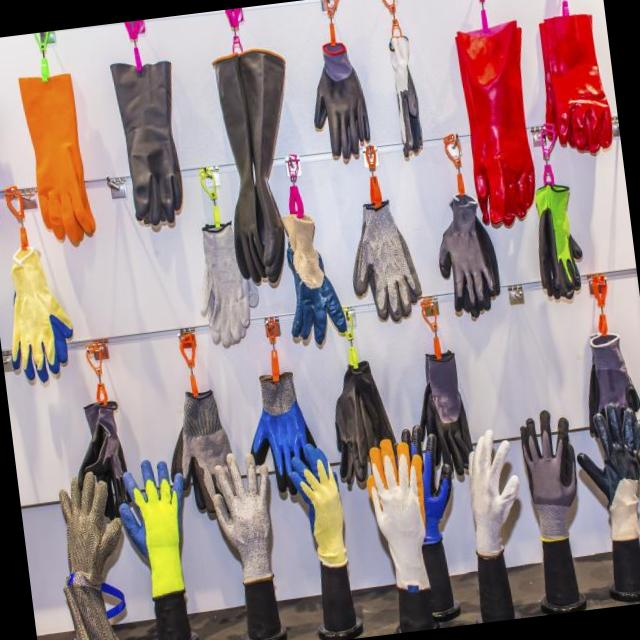Gloves: (187, 39, 317, 293), (0, 67, 118, 273), (81, 46, 223, 217), (272, 430, 373, 640), (354, 422, 451, 628), (41, 464, 146, 640), (0, 219, 107, 384), (198, 444, 288, 640), (126, 446, 209, 640), (529, 4, 623, 170), (522, 408, 600, 604), (457, 428, 538, 611), (180, 214, 269, 358), (585, 392, 640, 600), (278, 205, 354, 344), (531, 171, 607, 308), (350, 190, 429, 320), (306, 38, 386, 165)
